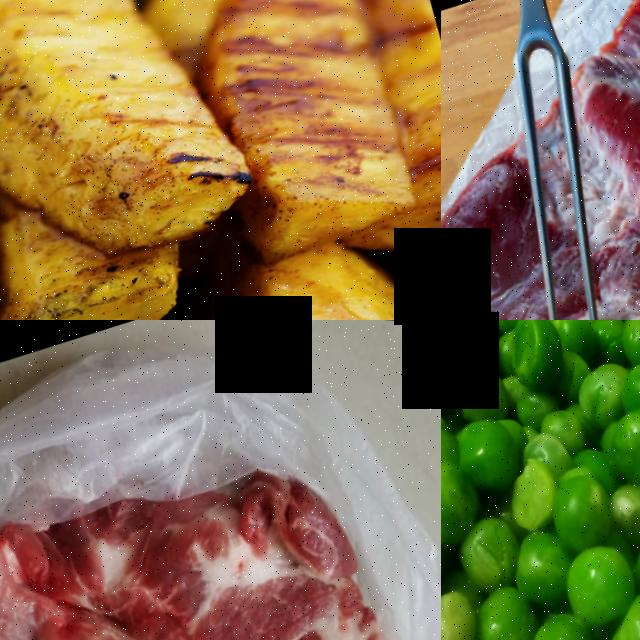peas: (441, 320, 640, 640)
pork belly: (0, 407, 441, 640), (539, 0, 640, 320), (441, 210, 619, 320)
